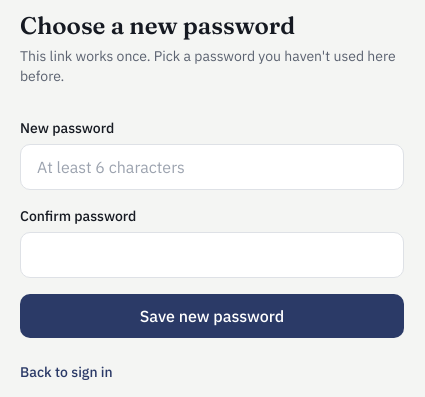
Test case: password recovery pages › sends the token from the link
The width and height of the screenshot is (425, 397).
Type "password123" into the password field labelled "New password".
click(212, 167); type("password123")  # box [20,144,404,190]
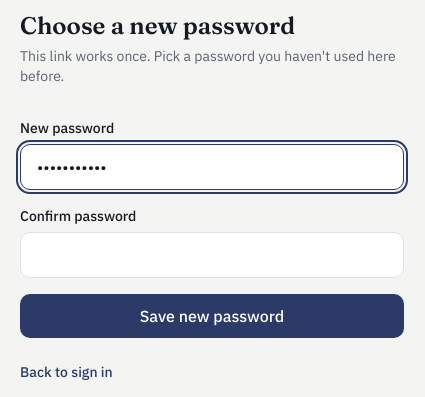
Type "password123" into the password field labelled "Confirm password".
click(212, 255); type("password123")  # box [20,232,404,278]
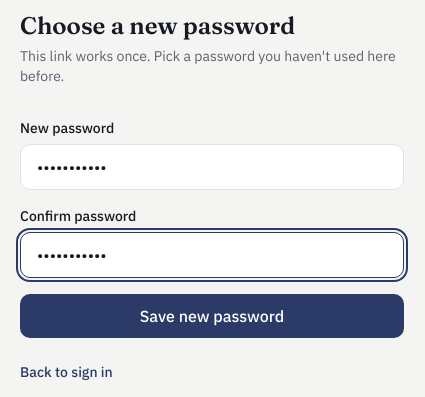
Click the button "Save new password".
click(212, 316)  # box [20,294,404,338]
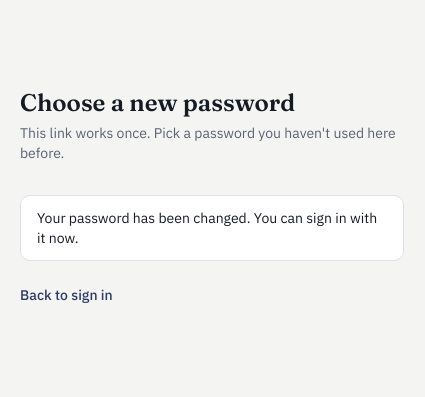
Now the message shows "password has been changed", box [37,209,377,247]
